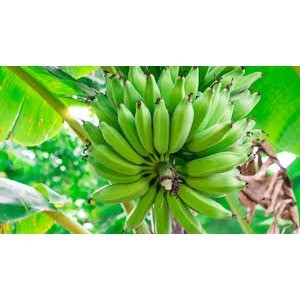banana_brain food: (91, 81, 233, 182)
